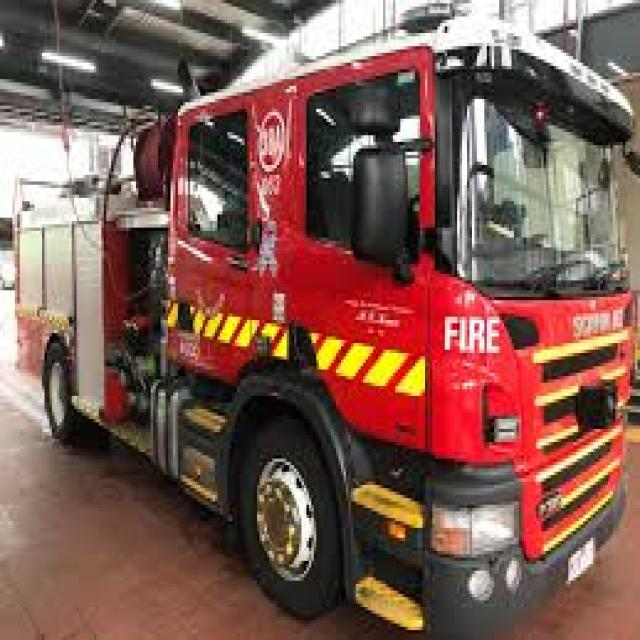Fire_brigade: (0, 49, 640, 640)
